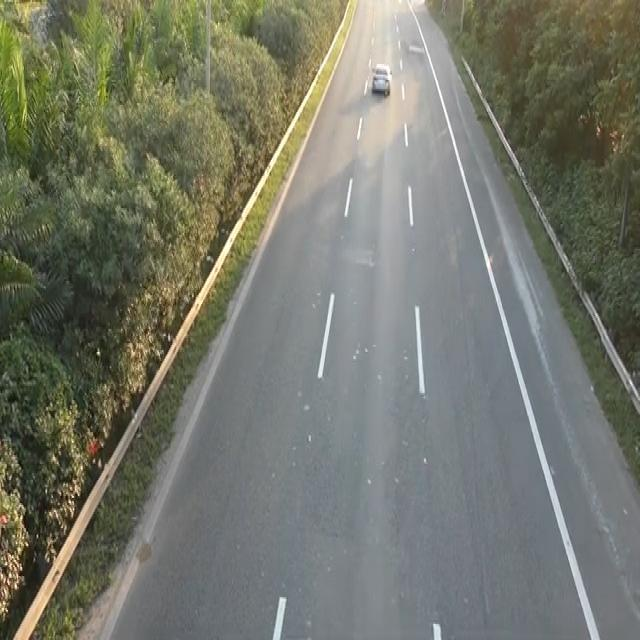bus: (370, 60, 392, 98)
